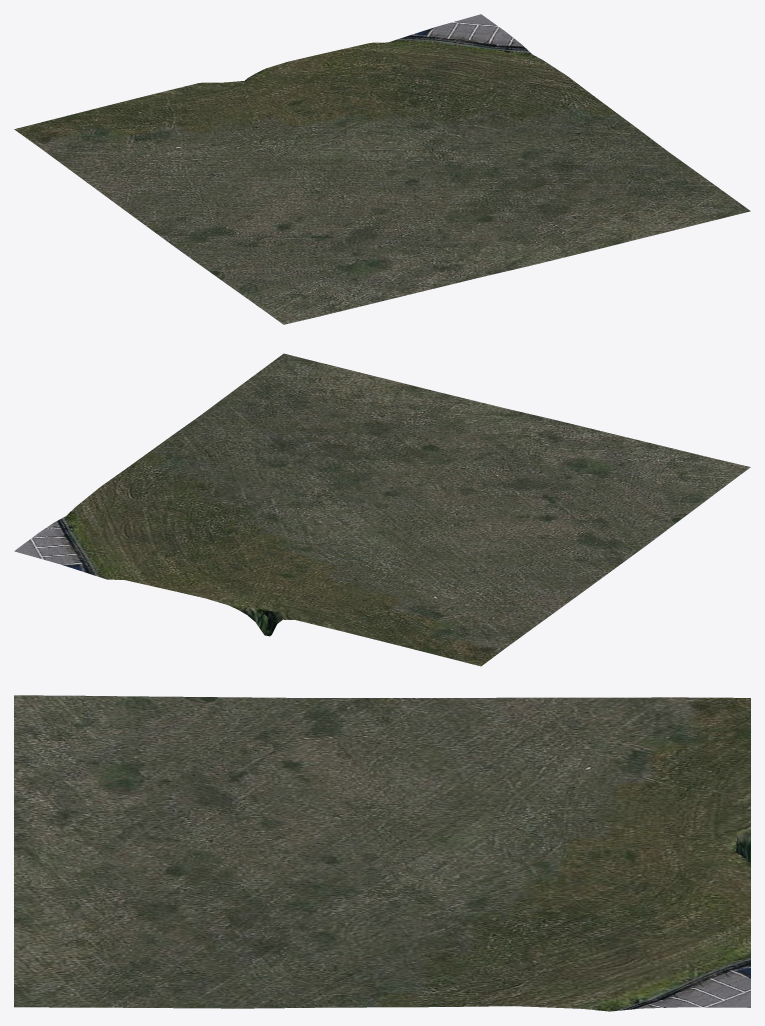
Rendered from map_15_8185_13781.dae.
3 views of the same model, one above another, from view 1: azimuth 30°, elevation 25°; view 2: azimuth 150°, elevation 25°; view 3: azimuth 270°, elevation 25° (orthographic). The views are drawn at different scales.
Visible parts, largest first — view 1: Ter0; view 2: Ter0; view 3: Ter0.
Part boxes in pixels (x1,y1,x2,y2): Ter0: (14, 14, 750, 324); Ter0: (14, 353, 750, 666); Ter0: (14, 695, 750, 1011).
Size of the model in its own units: 63.87 by 63.88 by 3.16.
3 materials, 3 textured.
